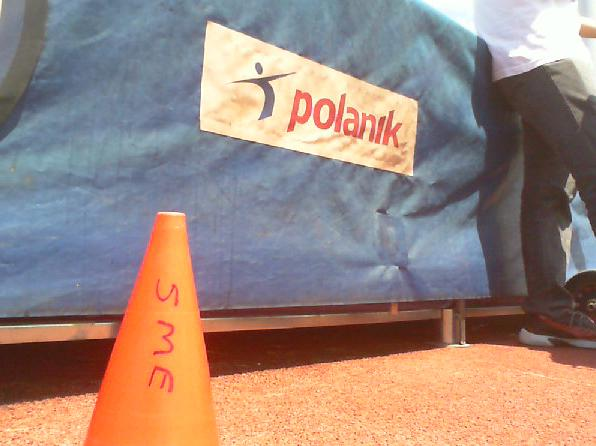0 cone: (79, 212, 228, 446)
